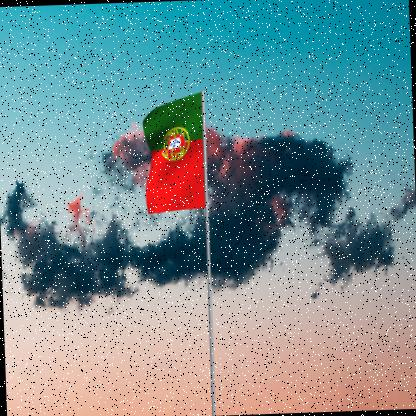pt: (143, 94, 208, 217)
